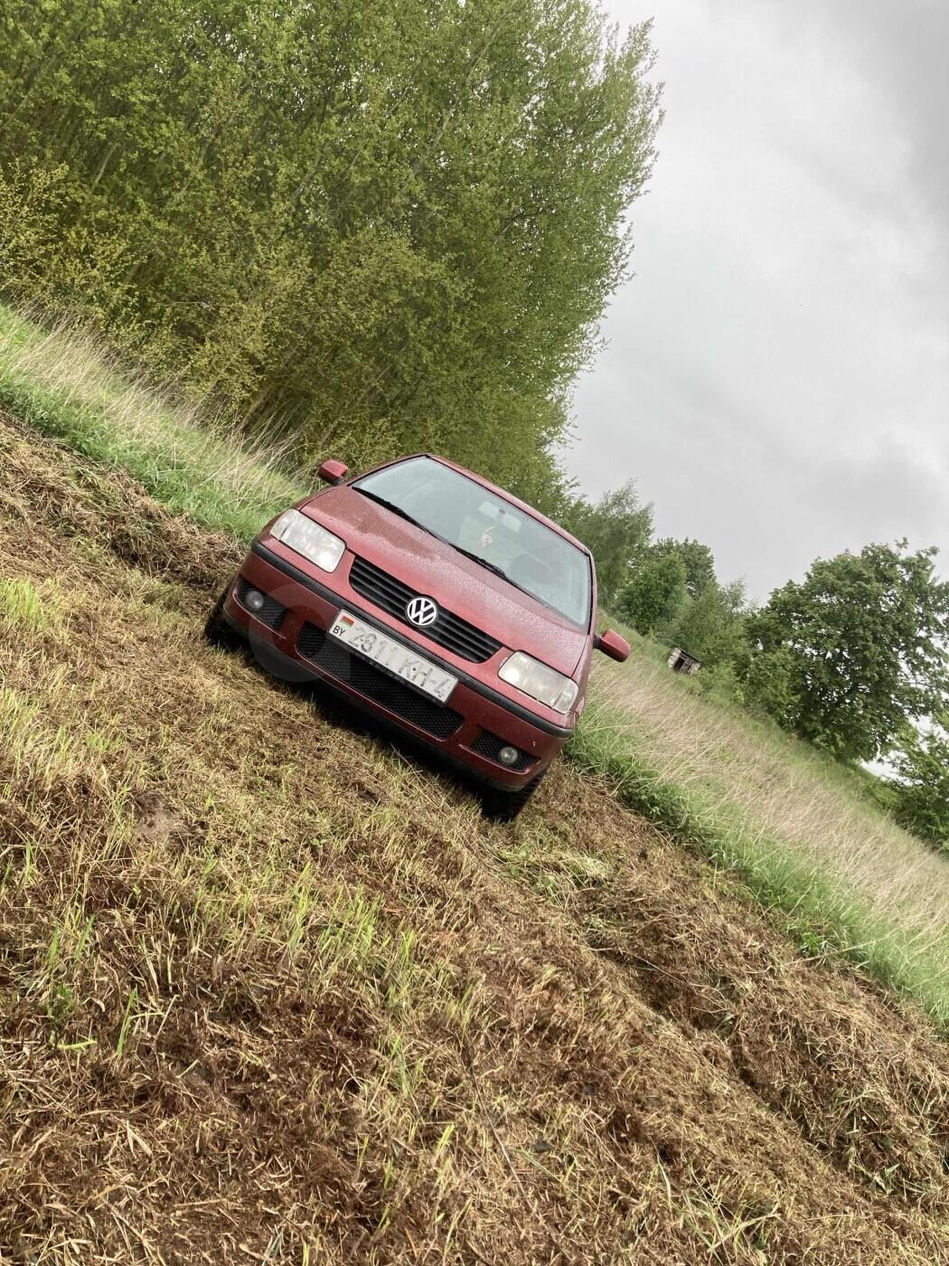Polo_2000-2002: (203, 430, 628, 830)
